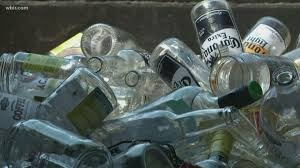glass: (102, 103, 239, 151), (147, 35, 229, 113), (3, 114, 117, 168), (40, 65, 119, 130), (209, 50, 300, 103), (1, 49, 87, 99), (188, 1, 245, 73), (239, 12, 293, 71), (82, 46, 160, 77), (80, 21, 147, 55), (106, 139, 178, 168), (193, 128, 239, 168), (124, 67, 172, 100)
